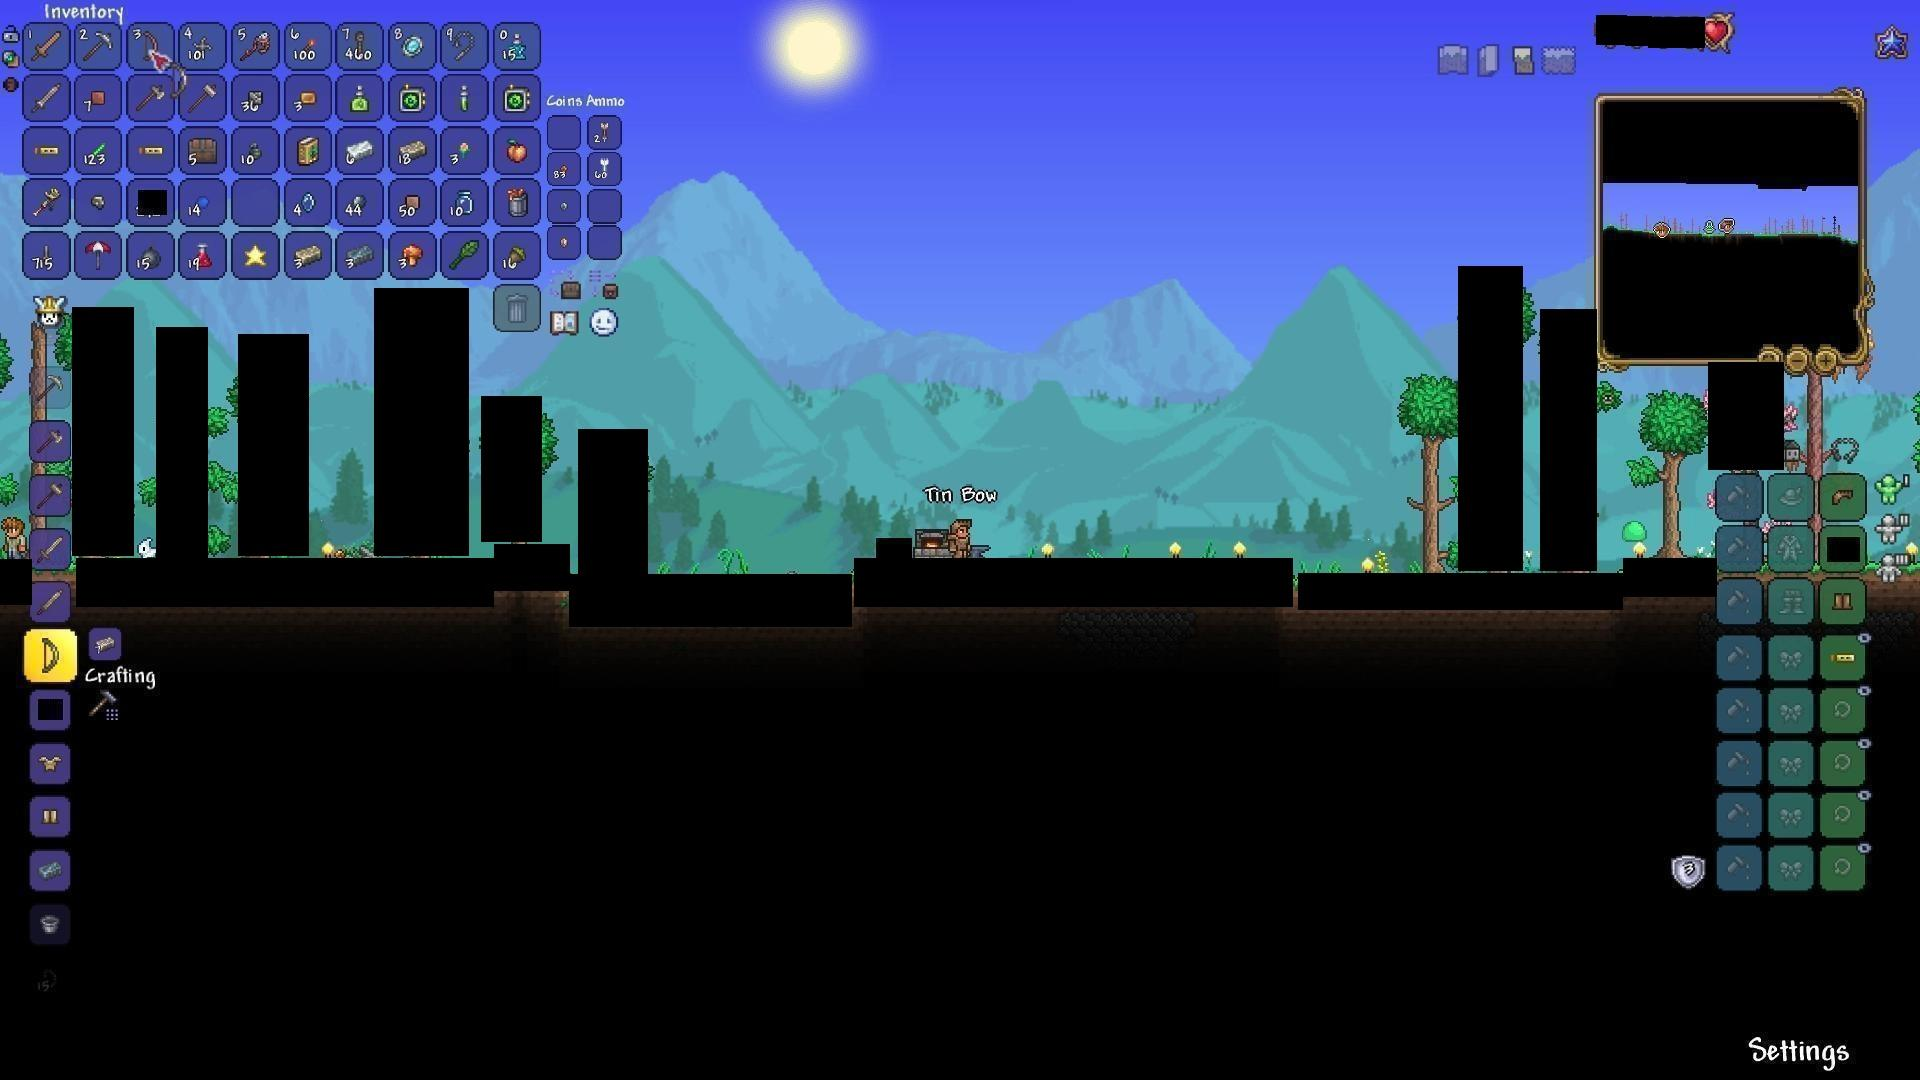breastplate: (37, 753, 63, 773)
heart: (1702, 17, 1731, 47)
helmet: (1829, 487, 1857, 508)
legs: (1830, 591, 1859, 615), (37, 806, 61, 825)
slime: (1625, 520, 1648, 545)
tree: (1396, 364, 1458, 571), (1648, 386, 1702, 556)
